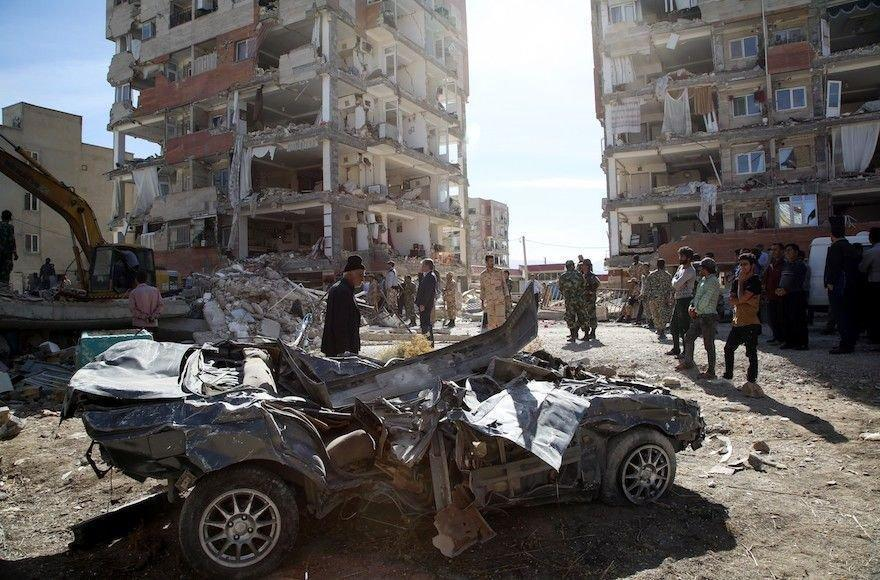destroyed: (104, 11, 466, 360)
